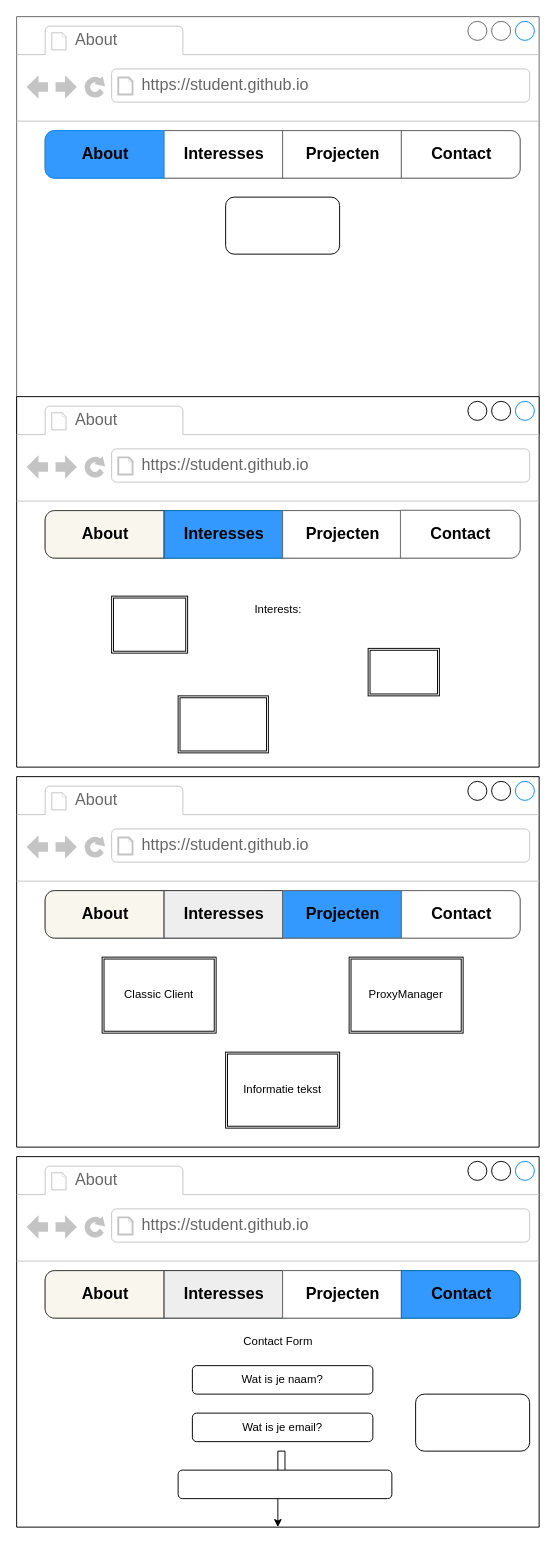
This 556x1551 diagram has some shape labels left out. The centre of each missing label's shape, as x and y in pixels:
Coderen: the point at 149,624
Contact info: the point at 472,1422
Gamen: the point at 403,671
Informatie over mij: the point at 282,225
Piano spelen: the point at 222,724
Wilt u nog wat zeggen: the point at 284,1484
